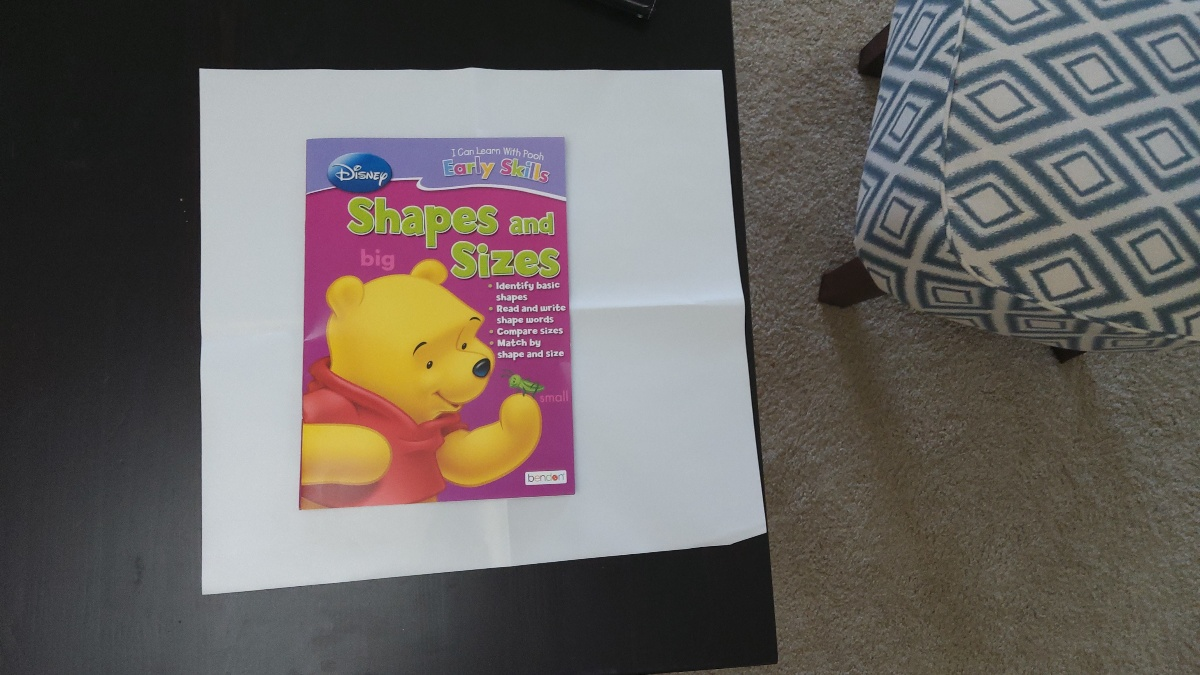book: (305, 138, 569, 499)
